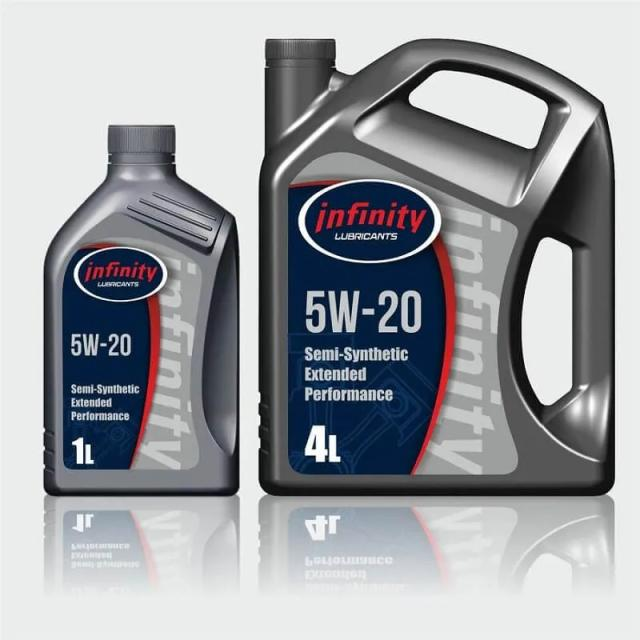motor_oil: (247, 25, 621, 512)
